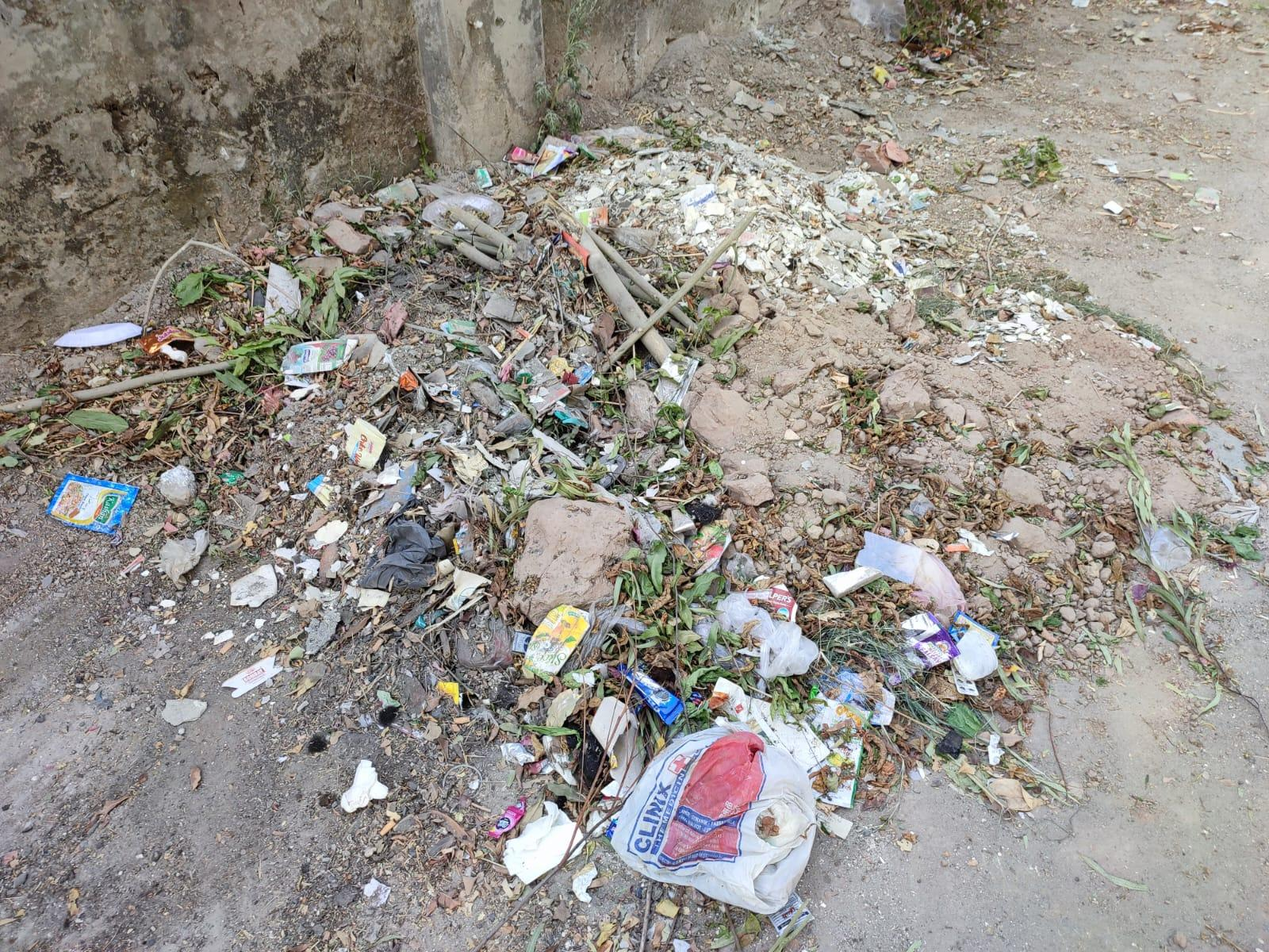garbage: (240, 122, 1054, 919)
